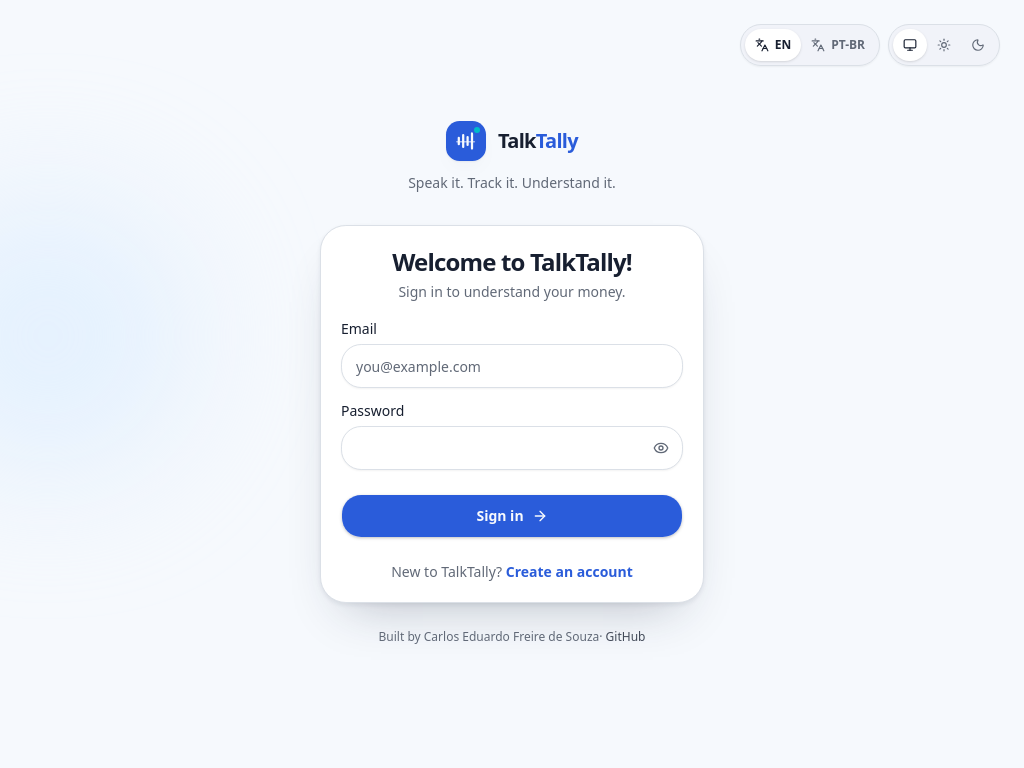
Test: authentication navigation › returns a freshly unauthenticated deep link to its requested page after sign-in
Expected: the text "Welcome to TalkTally!" is shown, x1=392 y1=245 x2=632 y2=278
Step 1. Type "user-b@example.com" into the field labelled "Email" → (512, 366), box x1=341 y1=344 x2=683 y2=388
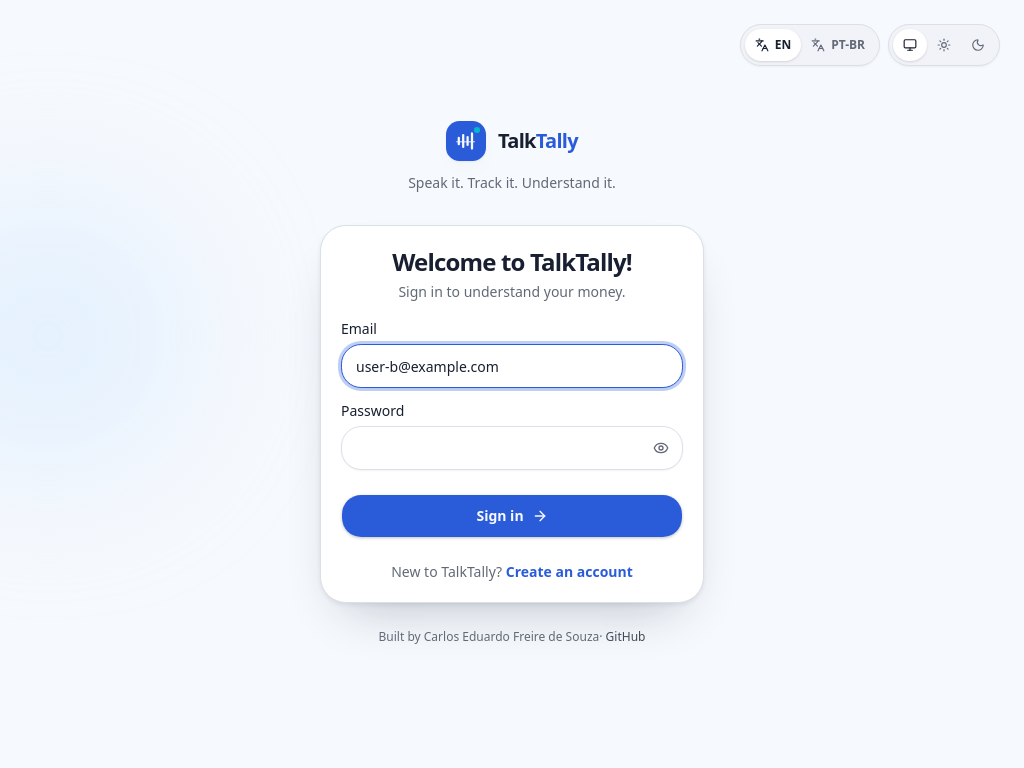
Step 2. Type "secret1234" into the password field labelled "Password" → (512, 448), box x1=341 y1=426 x2=683 y2=470
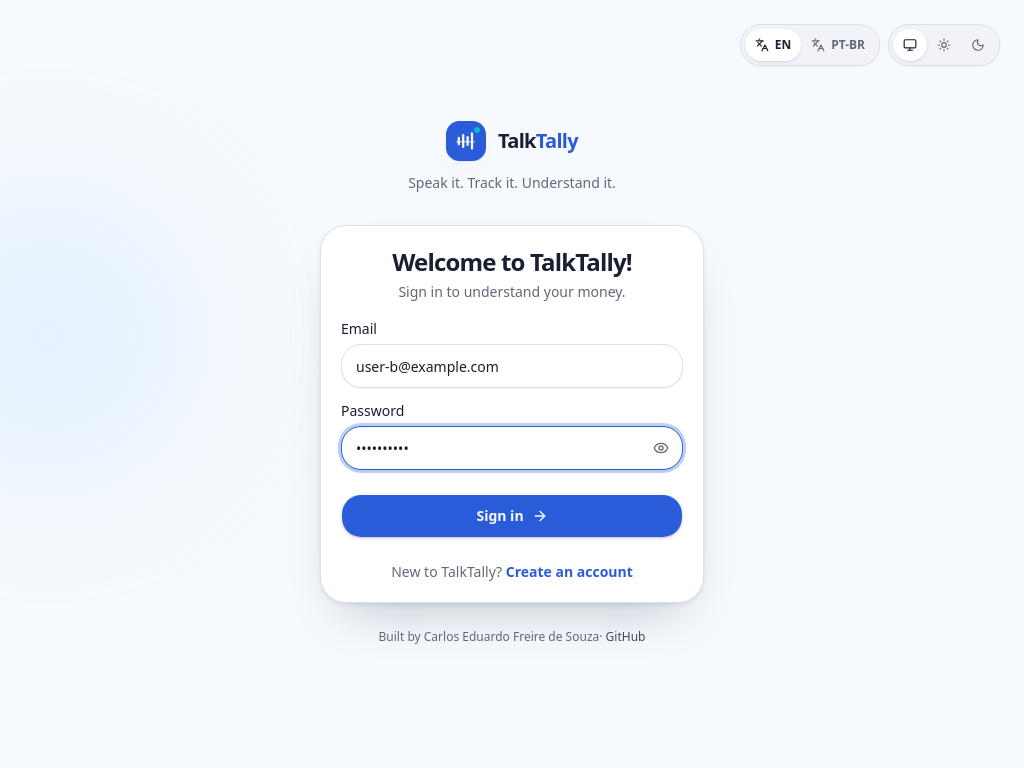
Step 3. Click the button "Sign in" → click(512, 516), box x1=341 y1=494 x2=683 y2=538
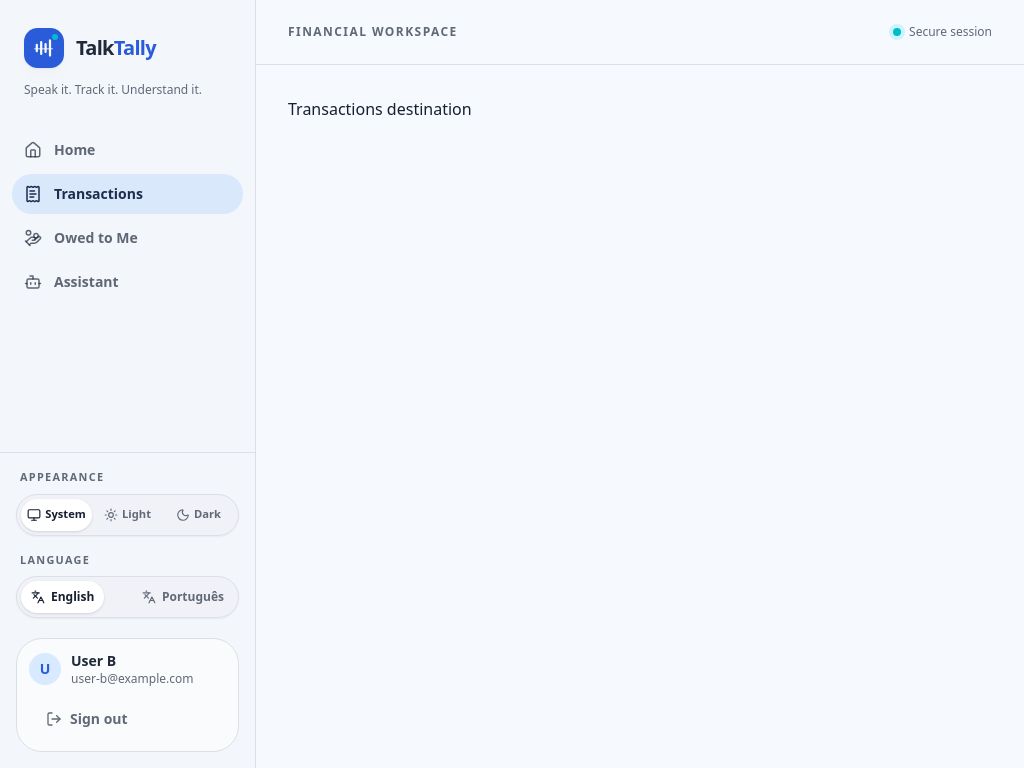
Now the heading "Transactions destination" is shown, box x1=288 y1=98 x2=472 y2=120
